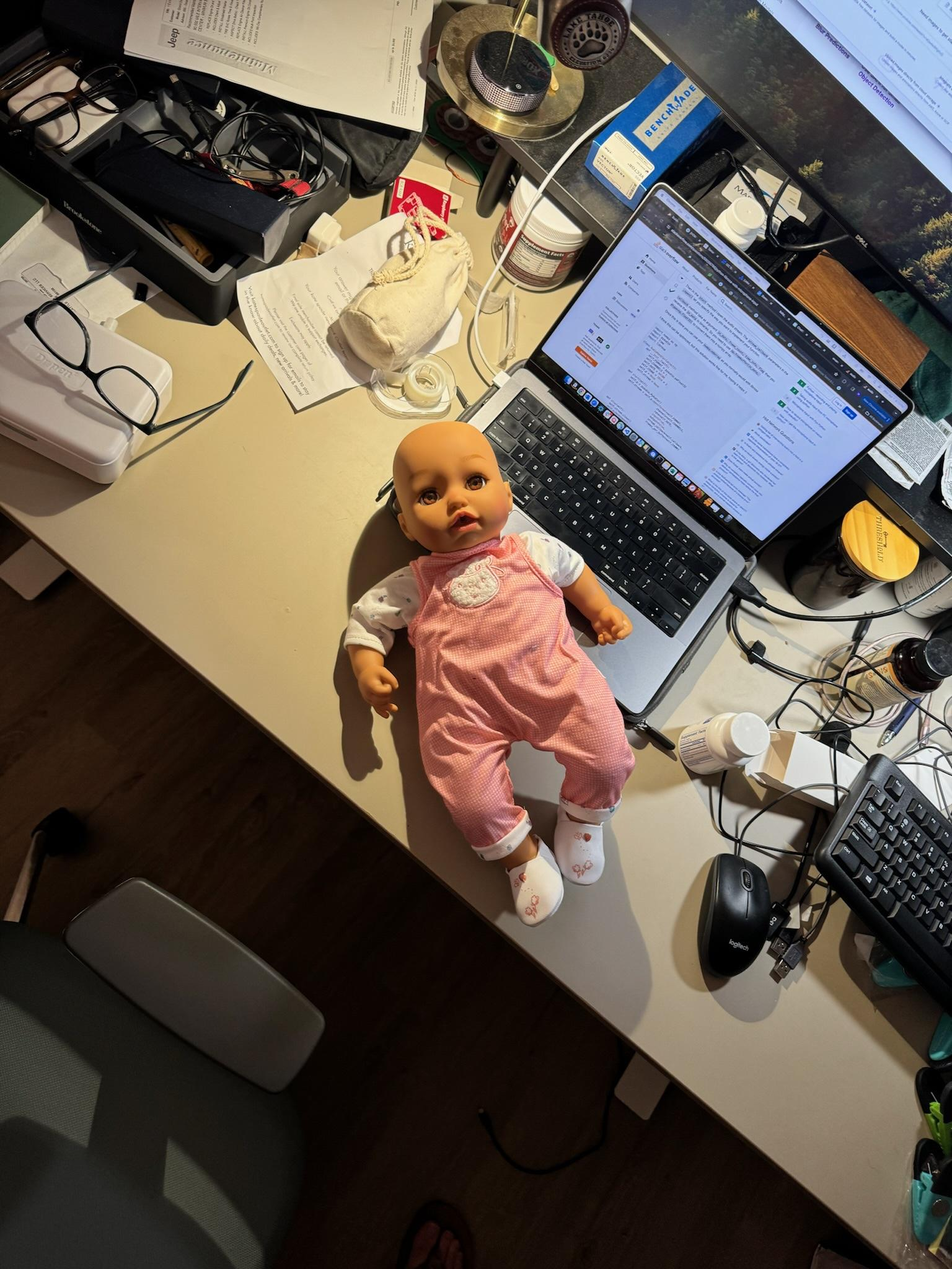baby: (339, 411, 653, 925)
